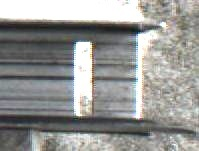40ngpress: (42, 18, 155, 134)
